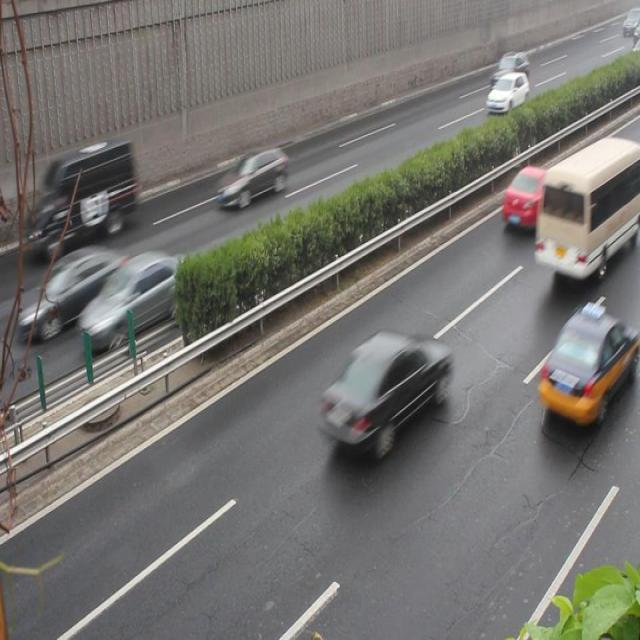car: (316, 332, 451, 460), (76, 248, 194, 353), (534, 303, 630, 426), (29, 245, 140, 339), (214, 146, 288, 210), (502, 164, 568, 231), (484, 71, 527, 115)
truck: (532, 136, 640, 281), (28, 138, 136, 257)
